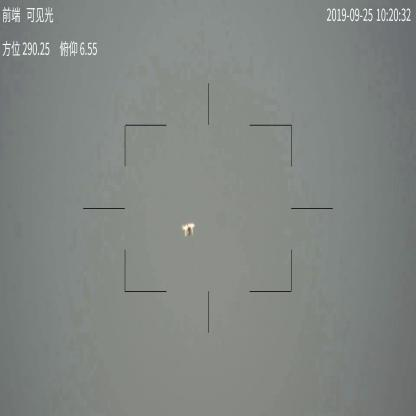uav: (180, 222, 197, 239)
